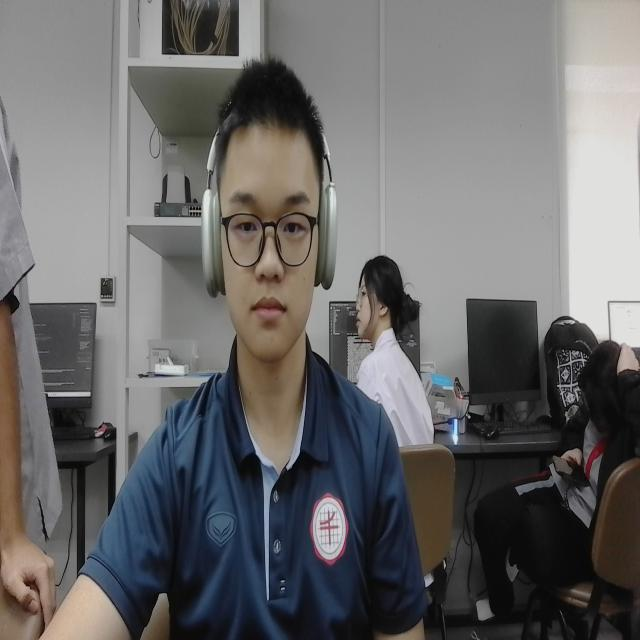airpods max: (189, 44, 346, 307)
